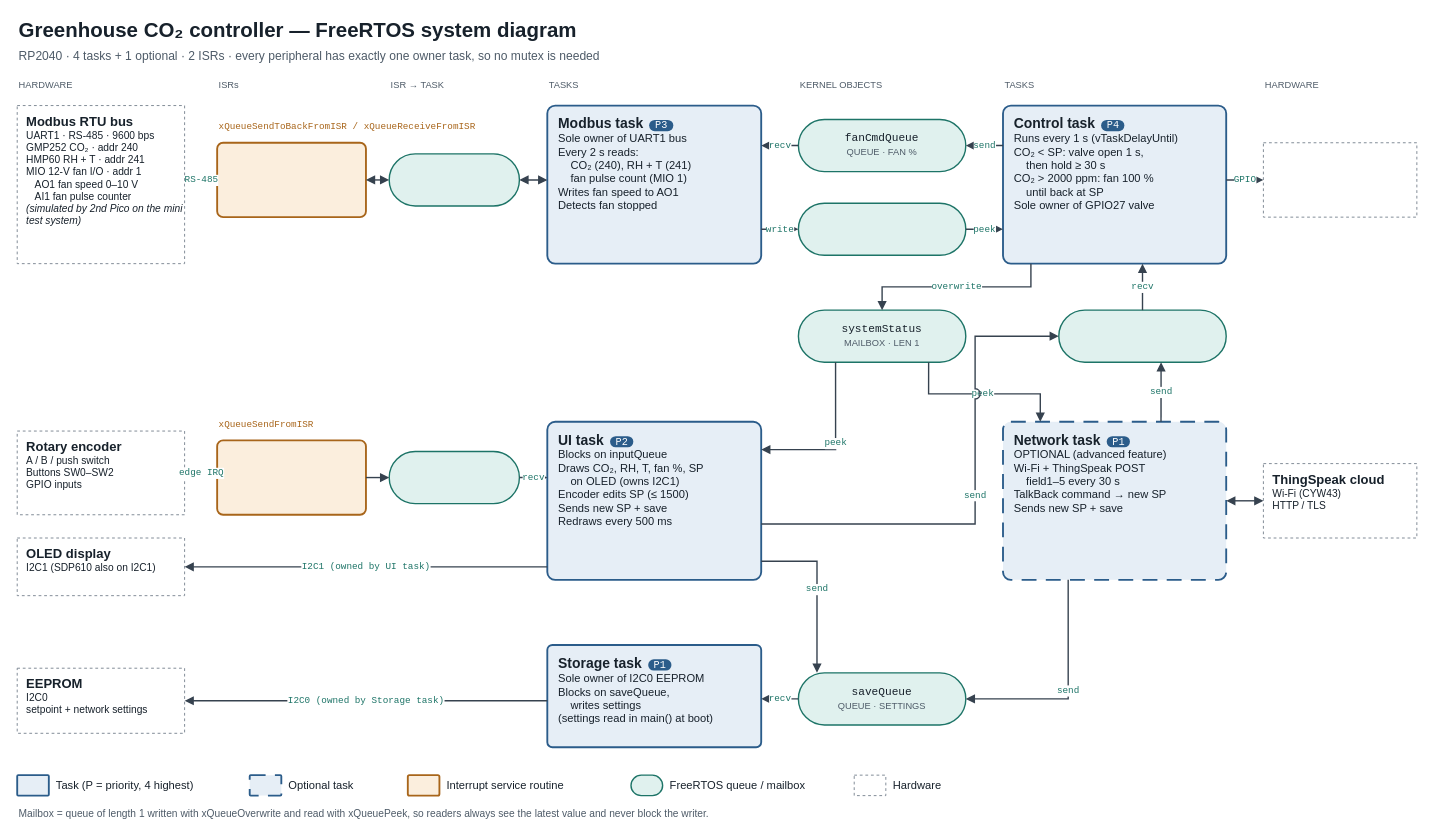
Image size: 1433x839. Some labels were removed from this diagram. The shapes that lost their labels are listed below. From the top down, each one's centre as x and y in pixels, then its label:
At (291,179): "UART1 IRQ ISR PicoOsUart handler moves bytes only".
At (454,179): "rx / tx CHAR QUEUES".
At (1339,179): "CO₂ valve relay GPIO27 open ≤ 2 s at a time".
At (881,229): "sensorData MAILBOX · LEN 1".
At (1142,336): "setpointQueue QUEUE · PPM".
At (291,477): "GPIO IRQ ISR encoder A edge, keys posts event only".
At (454,477): "inputQueue QUEUE · EVENT".
